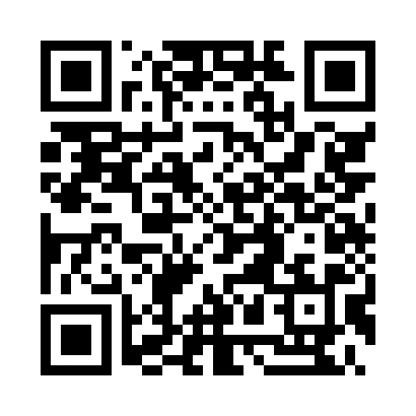qr: (35, 35, 379, 378)
